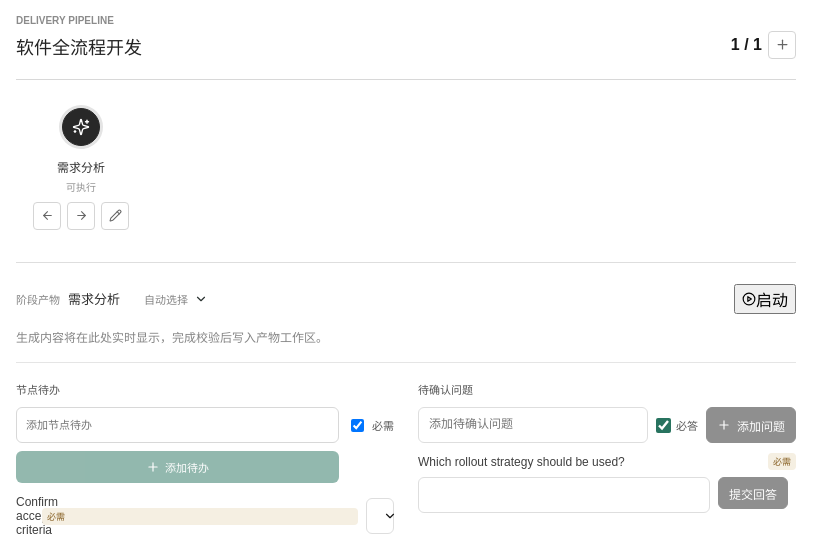
Test: RequirementDetailPage AI run controls › lists open node questions and submits a revisioned answer
(page scrolled)
Type "Canary rollout" into the field named "回答：Which rollout strategy should be used?". click: (564, 495)
box: [418, 477, 710, 513]
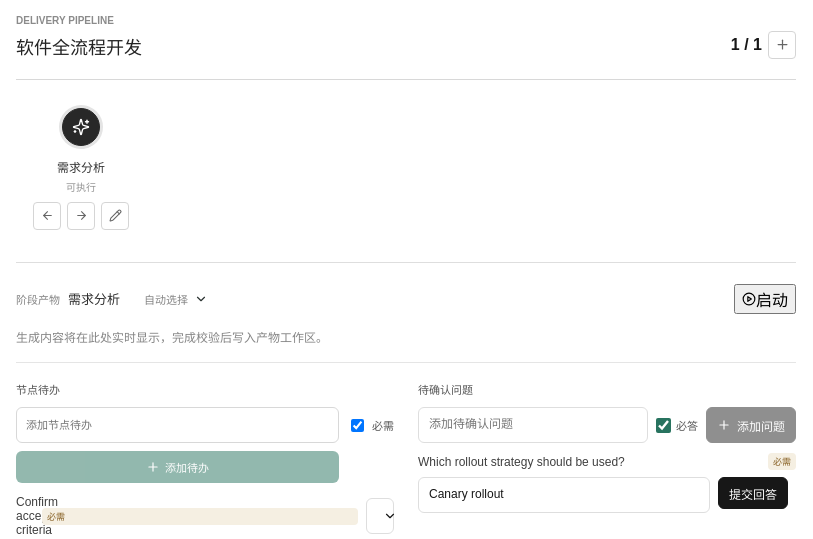
Click the button "提交回答". click: click(753, 493)
box: [718, 477, 788, 509]
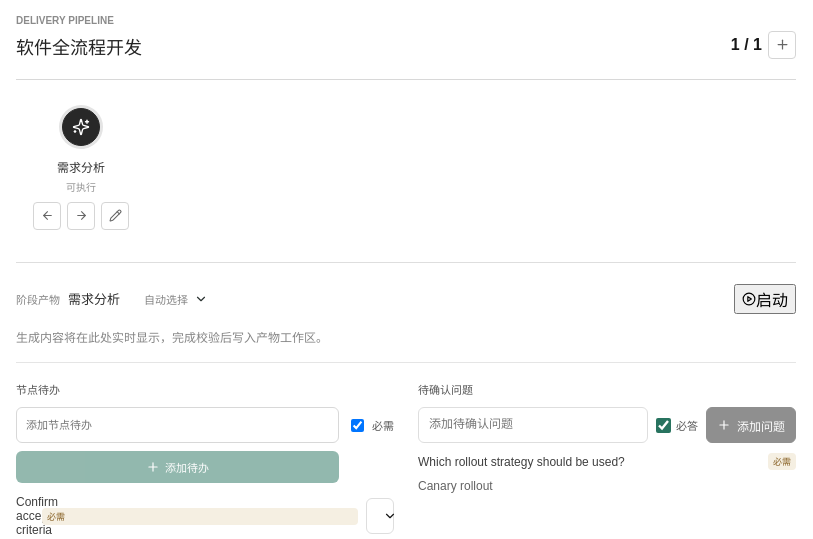
Expected: the text "Canary rollout" is shown, [418, 479, 493, 493]
